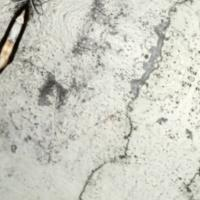crack: (68, 96, 171, 199)
